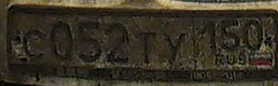character: (102, 18, 133, 66), (160, 28, 188, 72), (76, 18, 102, 65), (50, 18, 75, 63), (135, 28, 160, 67), (196, 17, 221, 55), (22, 27, 48, 60), (241, 18, 264, 55), (220, 18, 242, 54)
